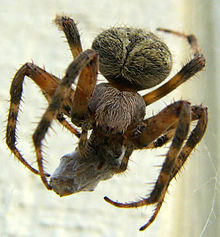spider: (1, 1, 220, 236)
